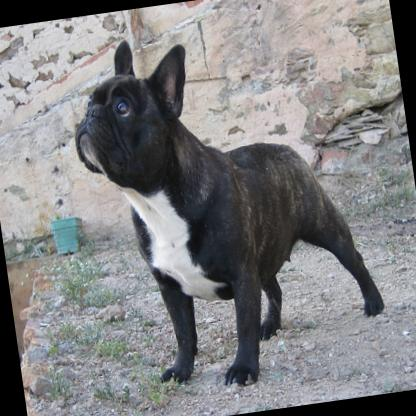French_bulldog: (60, 7, 392, 403)
